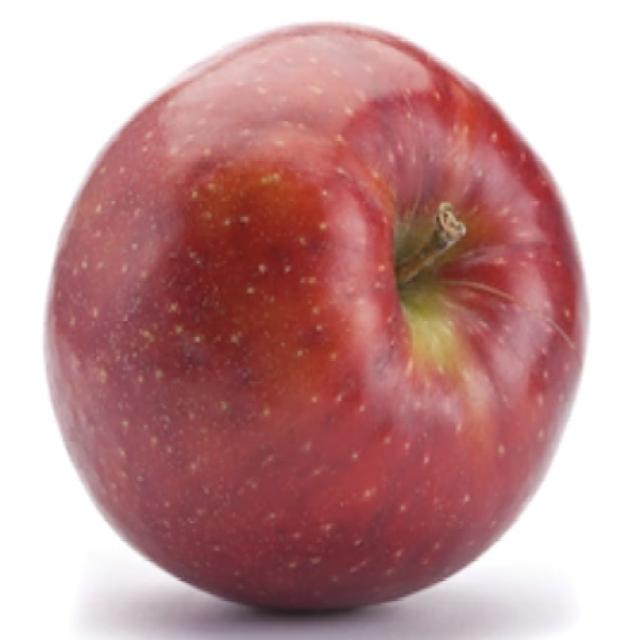apple: (46, 25, 585, 609)
